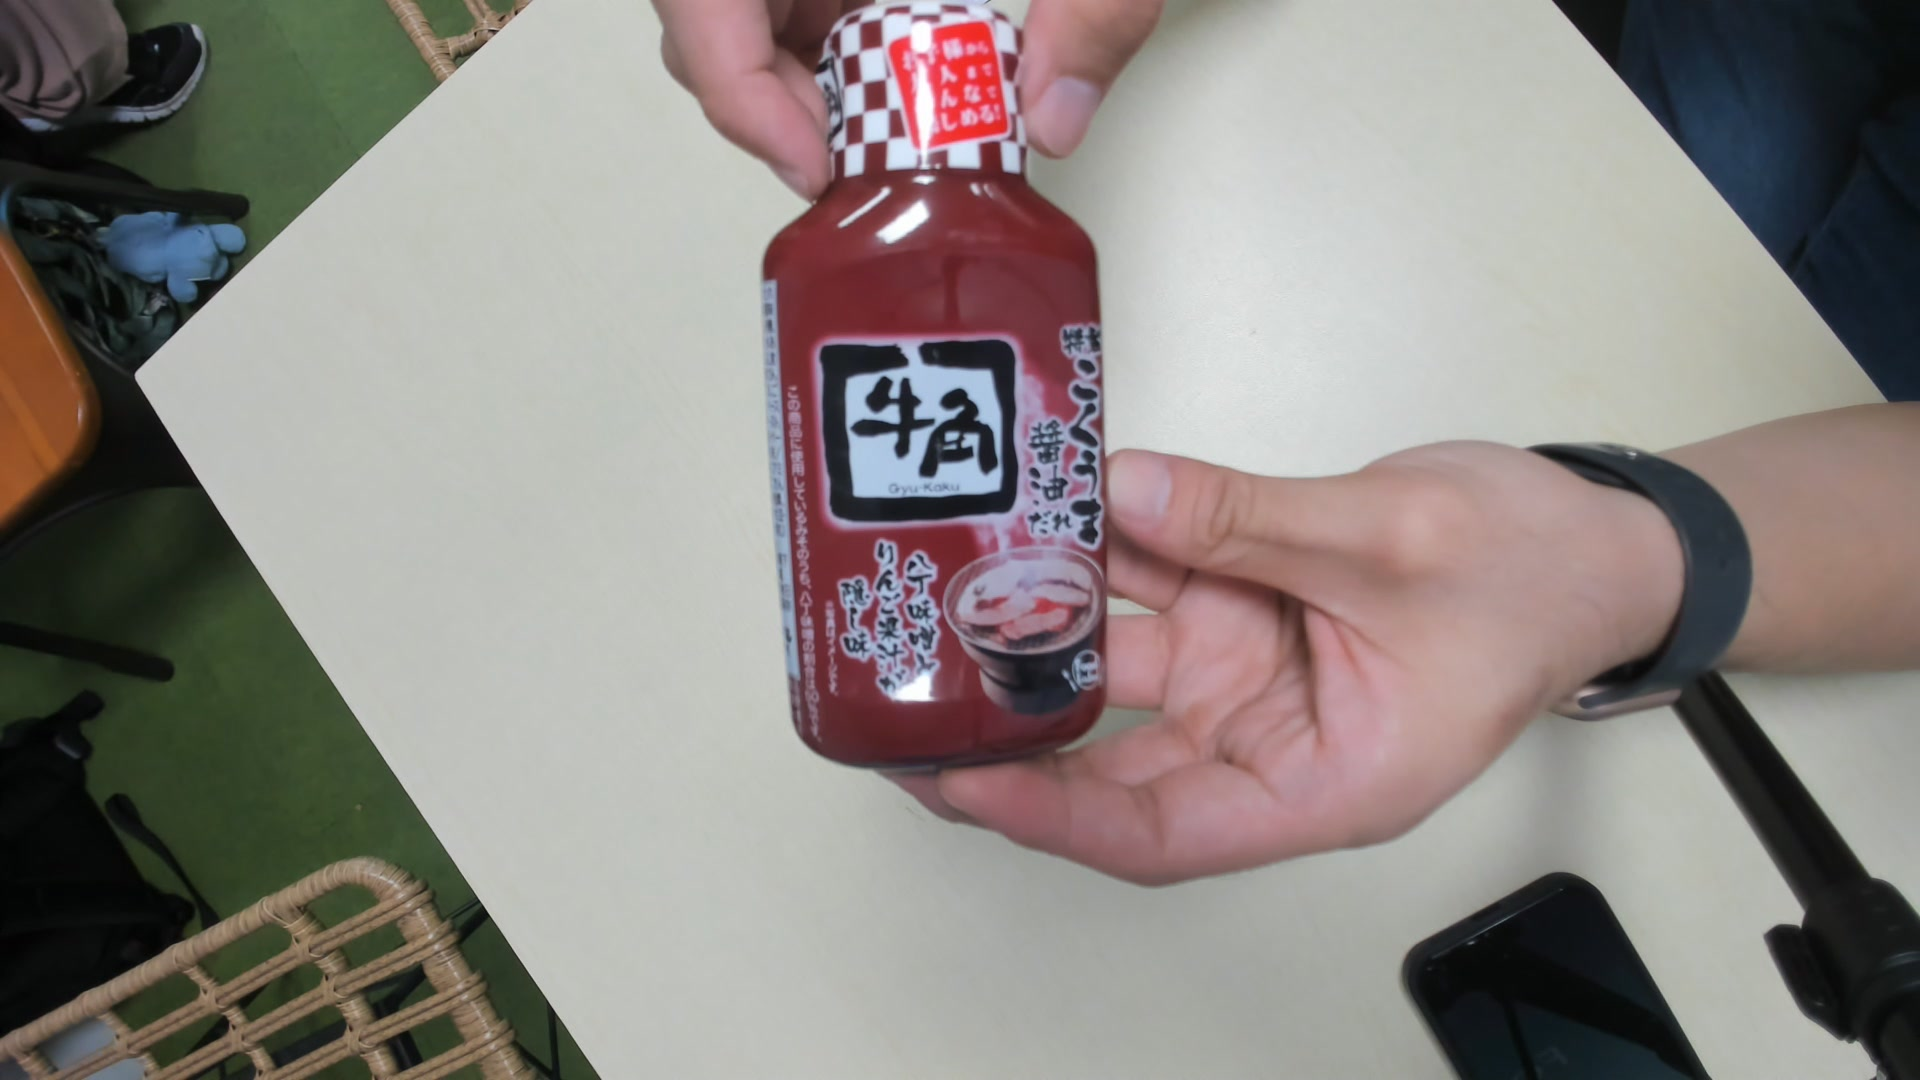OtherSauceDressing_200-299g_NonHalal_NonHealthy: (760, 1, 1112, 766)
